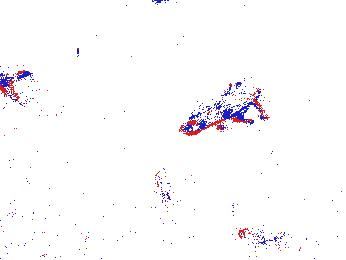X-ray fish: (151, 163, 172, 203)
red belly glassfish: (238, 226, 278, 245)
redtail glassfish: (177, 88, 261, 137)
